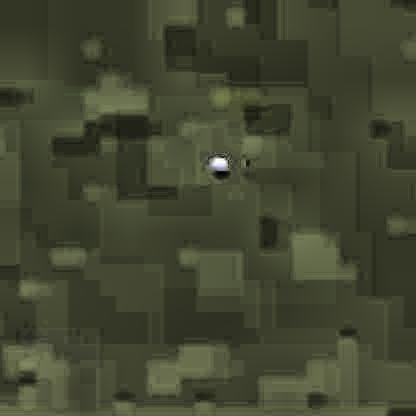golfball: (206, 152, 226, 174)
